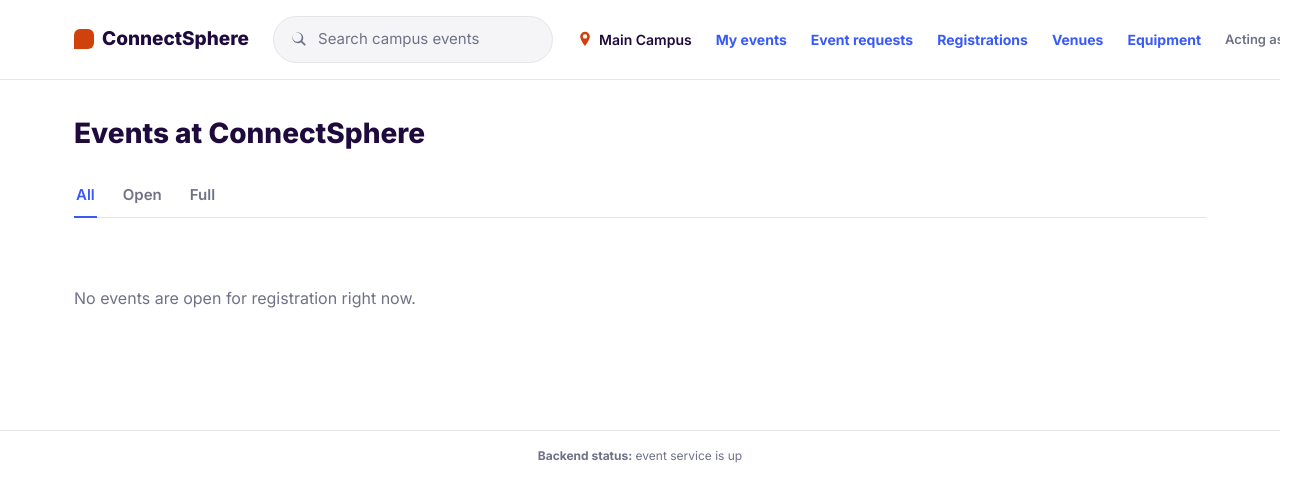
Test: coordinator's equipment (US26 AC 1, 2, 4) › says so when none of the coordinator's events can take equipment
Step 1. Click the button "Equipment" → coordinates (1164, 39), box 1128,29 -> 1201,50
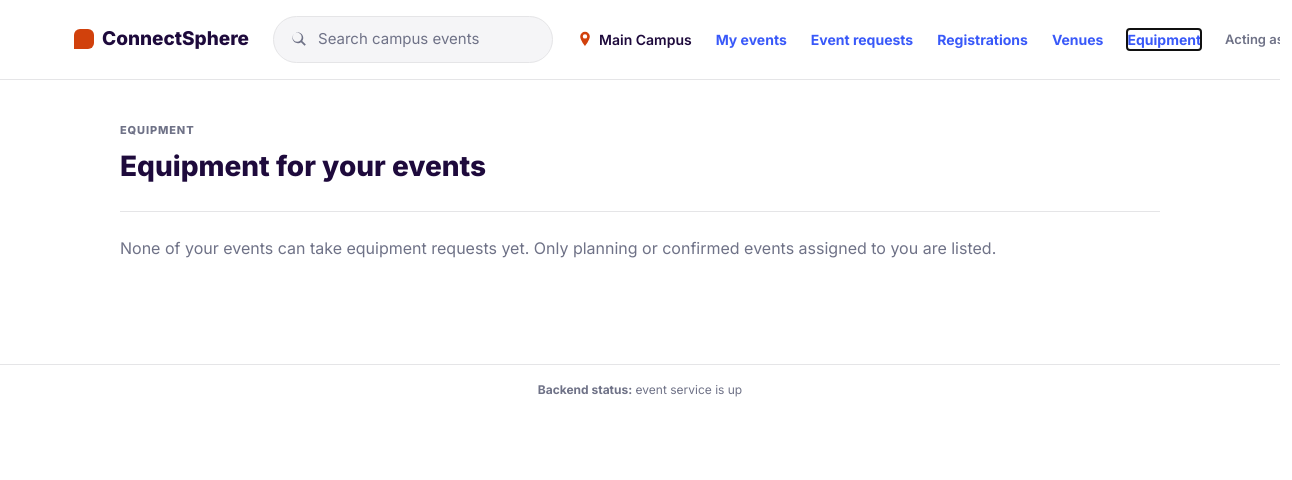
Check: the text "None of your events can take equipment requests yet. Only planning or confirmed events assigned to you are listed." is shown, box 120,238 -> 996,258
